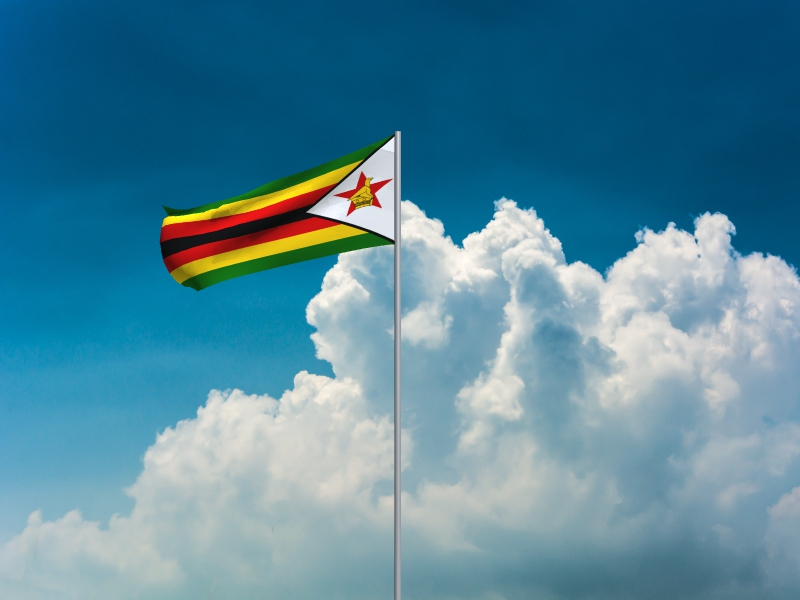zw: (160, 136, 396, 293)
